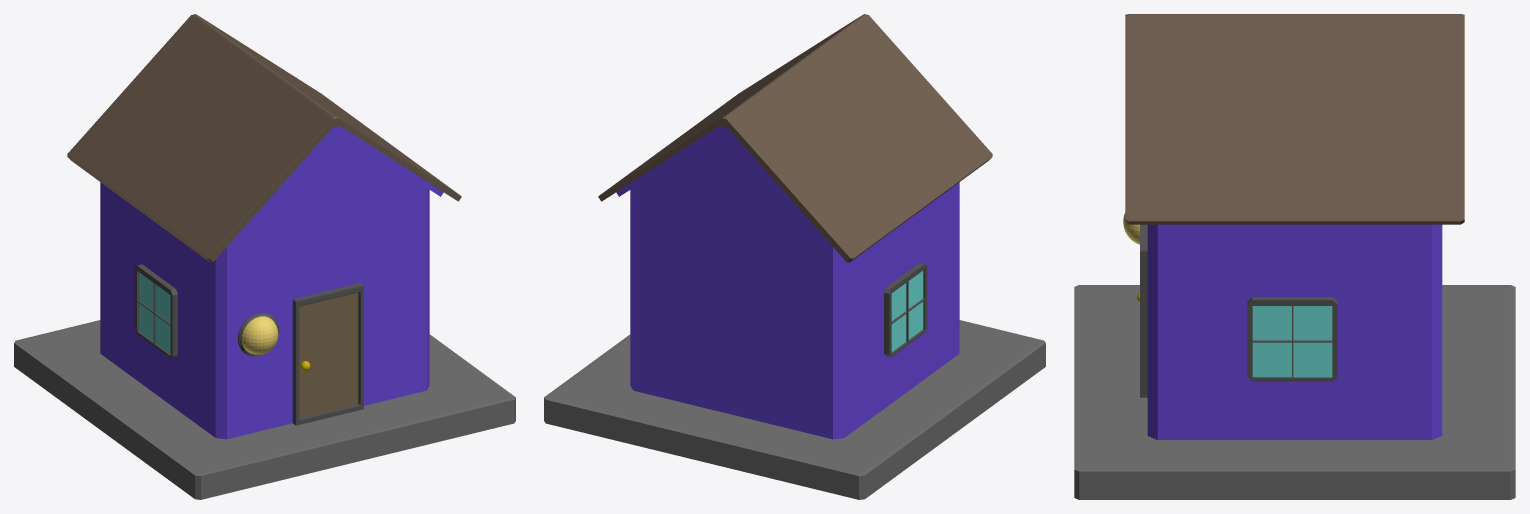
The model's file is BlueHouse1.fbx.
3 renders of one model, left to right at view 1: azimuth 30°, elevation 25°; view 2: azimuth 150°, elevation 25°; view 3: azimuth 270°, elevation 25°, orthographic. The views are drawn at different scales.
Parts seen in each view (by area): view 1: Base; view 2: Base; view 3: Base.
Boxes of the visible parts, x1,y1,x2,y2 form: Base: [14, 14, 515, 499]; Base: [544, 14, 1045, 499]; Base: [1074, 14, 1515, 499].
Size of the model in its own units: 300 by 294 by 300.
